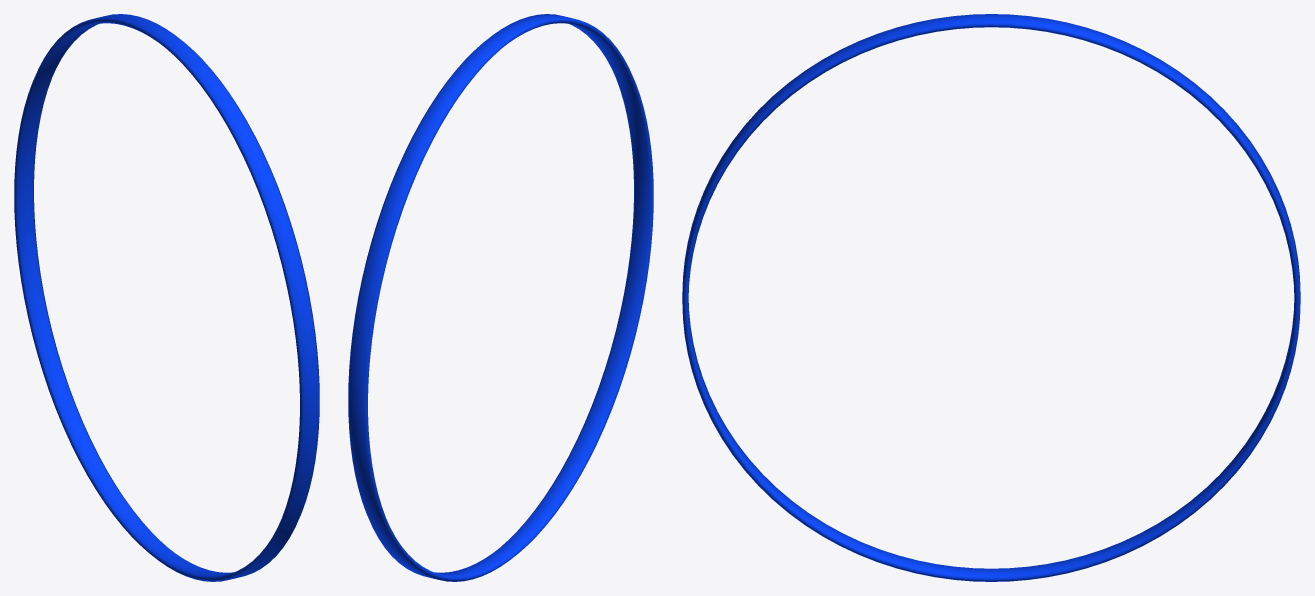
Rendered from rotation_z.obj.
The picture shows the model from 3 angles, left to right: view 1: azimuth 30°, elevation 25°; view 2: azimuth 150°, elevation 25°; view 3: azimuth 270°, elevation 25°; orthographic projection. The views are drawn at different scales.
Parts seen in each view (by area): view 1: ZAxis; view 2: ZAxis; view 3: ZAxis.
Part boxes in pixels (bbox=[...]): ZAxis: bbox=[14, 14, 319, 581]; ZAxis: bbox=[348, 14, 653, 581]; ZAxis: bbox=[682, 14, 1300, 581].
Size of the model in its own units: 0.0267 by 0.6749 by 0.6749.
